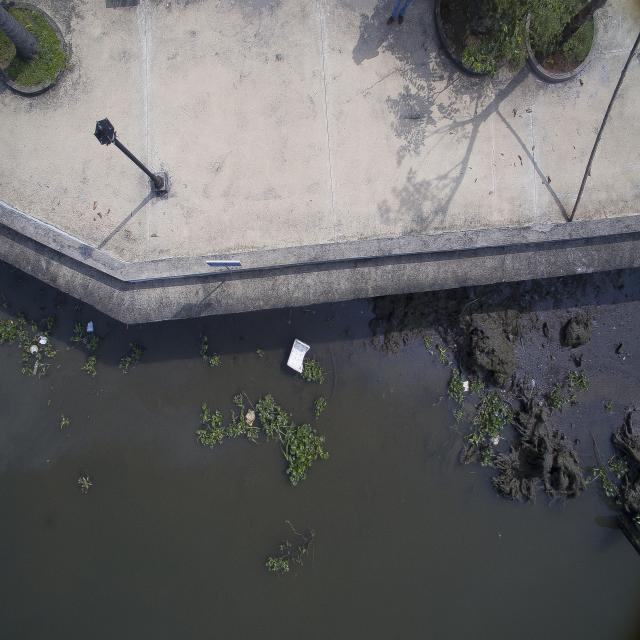plastic: (272, 328, 321, 382), (28, 330, 55, 360), (242, 399, 262, 436), (80, 320, 100, 339), (460, 380, 476, 396)
